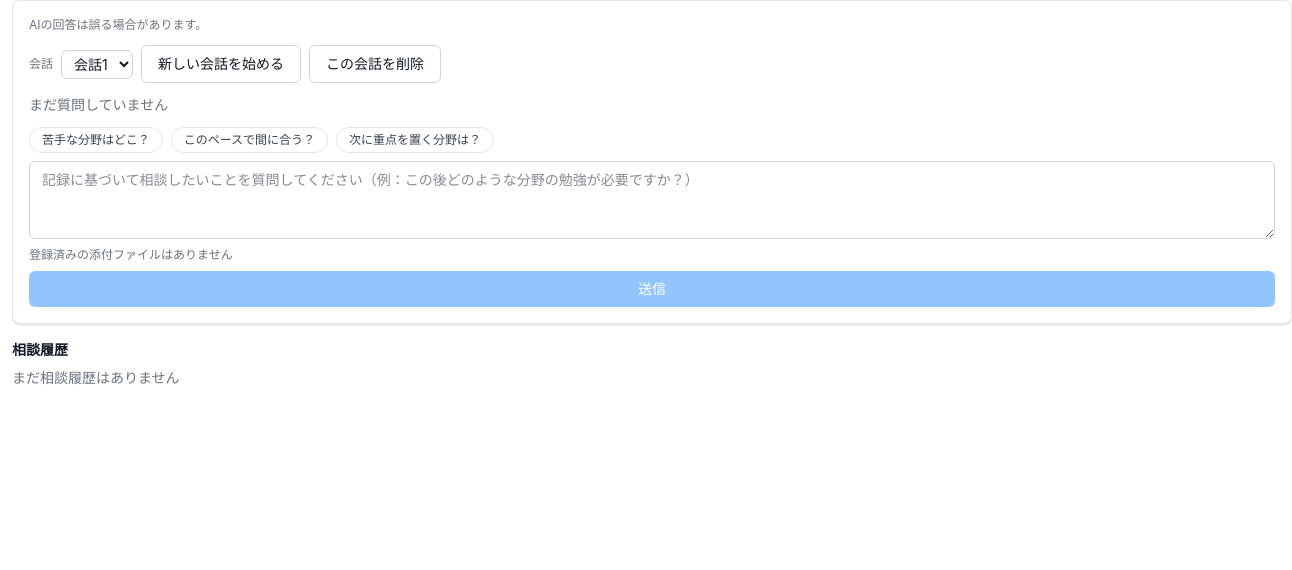
Test: GoalConsultationTab › 回答本文と根拠の日付（リンク）・週を表示する
Type "この後何を勉強すべき？" into the text box labelled "記録に基づいて相談したいことを質問してください（例：この後どのような分野の勉強が必要ですか？）".
click(652, 200); type("この後何を勉強すべき？")  # box 29,161 -> 1275,239
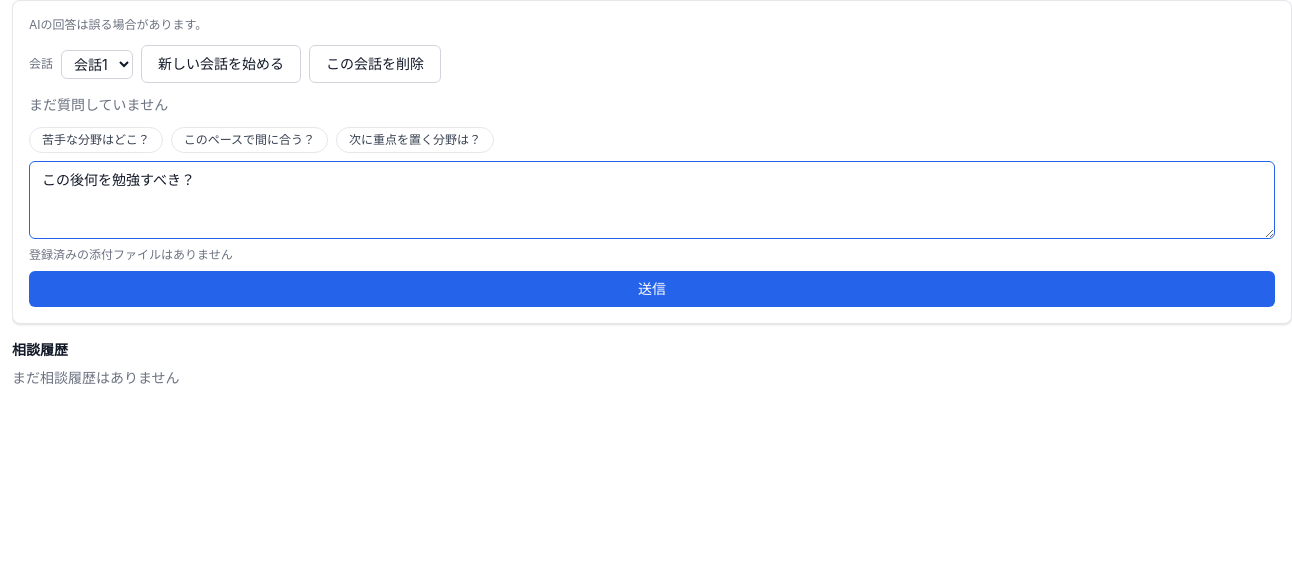
Click the button "送信".
click(652, 289)  # box 29,271 -> 1275,307
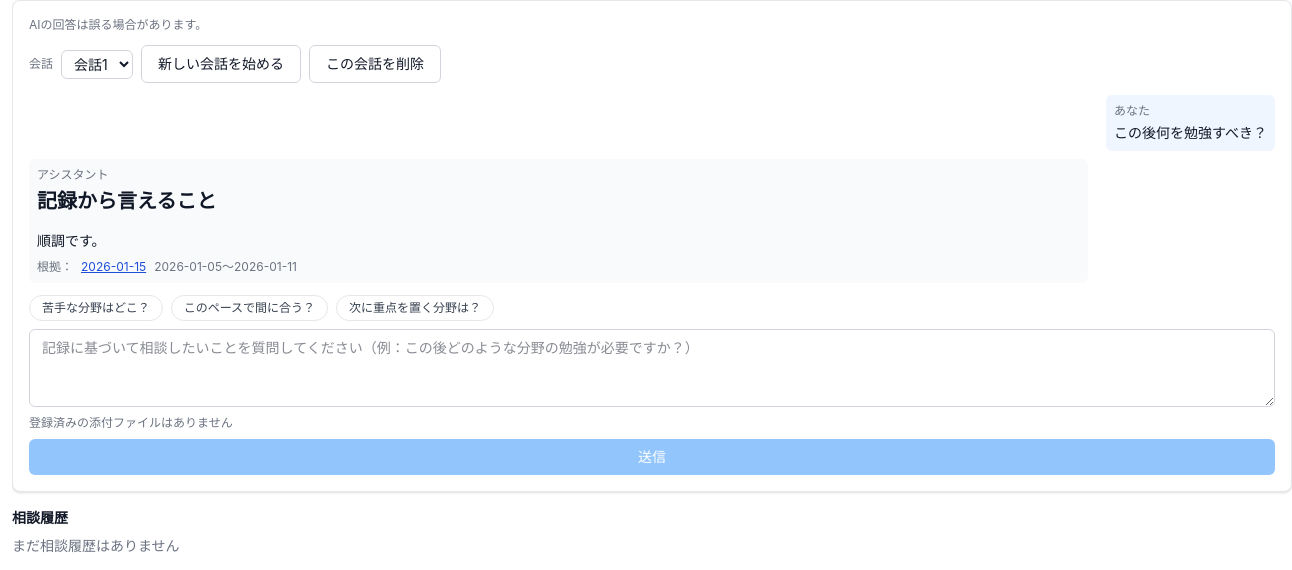
Expected: the text "順調です。" is shown, 37,232 -> 106,249
Expected: the text "2026-01-05〜2026-01-11" is shown, 154,259 -> 297,275
